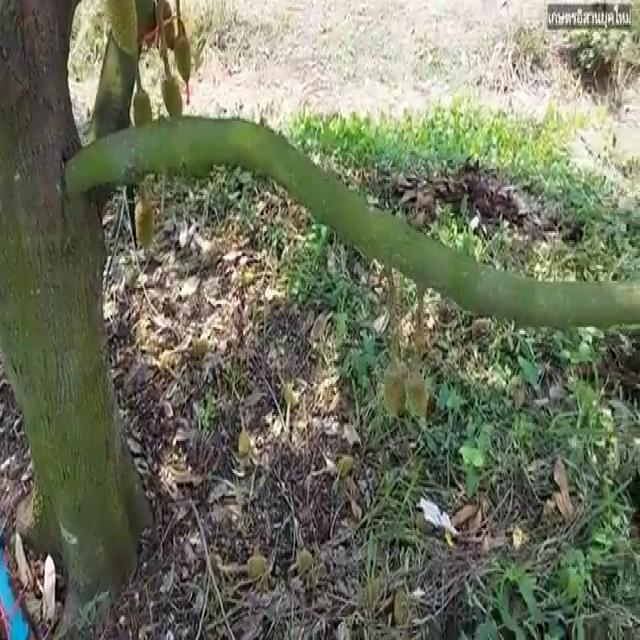durian: (100, 0, 142, 70), (157, 67, 187, 125), (131, 84, 155, 147), (132, 195, 157, 255), (170, 27, 194, 87)
